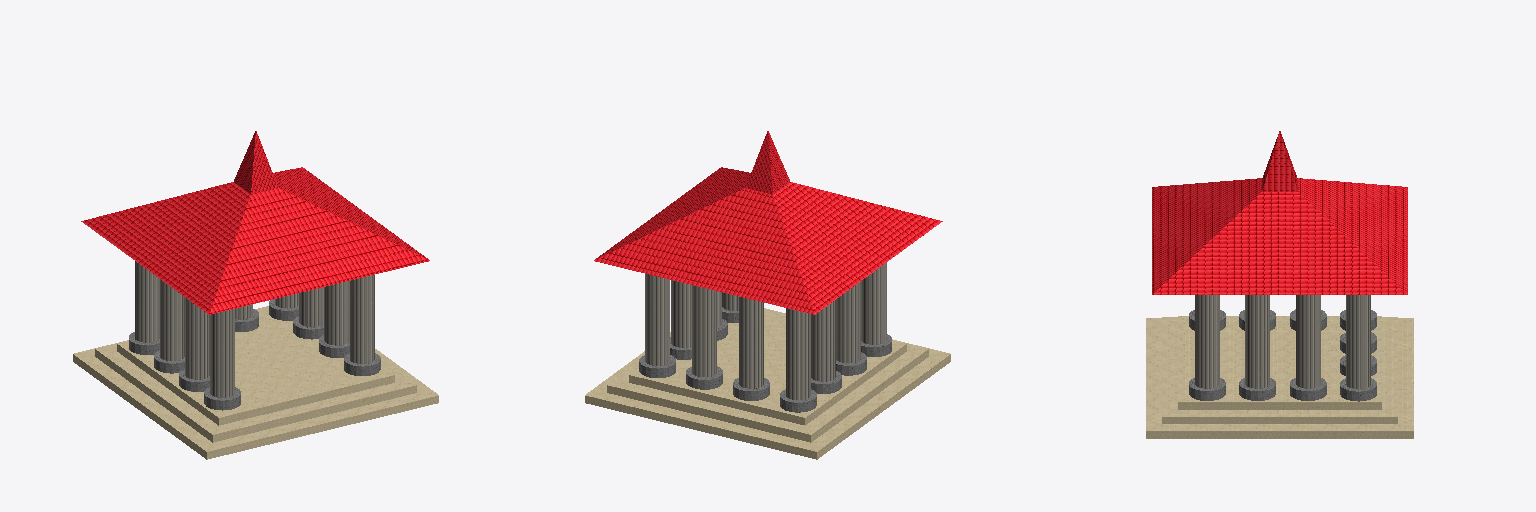
The picture shows the model from 3 angles: view 1: azimuth 30°, elevation 25°; view 2: azimuth 150°, elevation 25°; view 3: azimuth 270°, elevation 25°; orthographic projection.
Visible parts, largest first — view 1: Mesh.009_Roof, Mesh.012_Box003, Mesh.010_Box006, Mesh.011_Box005, Mesh.001_Cylinder019, Mesh.023_Cylinder009, Mesh.004_Cylinder011, Mesh.002_Cylinder012, Mesh.003_Cylinder013, Mesh.006_Cylinder017, Mesh_Cylinder018, Mesh.016_Cylinder020 (+1 smaller); view 2: Mesh.009_Roof, Mesh.012_Box003, Mesh.010_Box006, Mesh.011_Box005, Mesh.005_Cylinder016, Mesh.007_Cylinder014, Mesh.008_Cylinder015, Mesh.003_Cylinder013, Mesh.023_Cylinder009, Mesh.002_Cylinder012, Mesh.004_Cylinder011, Mesh_Cylinder018 (+4 smaller); view 3: Mesh.009_Roof, Mesh.012_Box003, Mesh.010_Box006, Mesh.011_Box005, Mesh.005_Cylinder016, Mesh.006_Cylinder017, Mesh.001_Cylinder019, Mesh_Cylinder018, Mesh.022_Cylinder028, Mesh.021_Cylinder029, Mesh.017_Cylinder027, Mesh.018_Cylinder026.
Boxes of the visible parts, x1=… form: Mesh.009_Roof: x1=81, y1=131, x2=429, y2=314; Mesh.012_Box003: x1=117, y1=306, x2=394, y2=425; Mesh.010_Box006: x1=73, y1=306, x2=438, y2=459; Mesh.011_Box005: x1=95, y1=340, x2=416, y2=442; Mesh.001_Cylinder019: x1=350, y1=275, x2=374, y2=363; Mesh.023_Cylinder009: x1=210, y1=309, x2=234, y2=397; Mesh.004_Cylinder011: x1=185, y1=298, x2=209, y2=379; Mesh.002_Cylinder012: x1=160, y1=279, x2=184, y2=360; Mesh.003_Cylinder013: x1=135, y1=261, x2=159, y2=342; Mesh.006_Cylinder017: x1=324, y1=281, x2=349, y2=345; Mesh_Cylinder018: x1=299, y1=287, x2=323, y2=326; Mesh.016_Cylinder020: x1=204, y1=387, x2=240, y2=410; Mesh.009_Roof: x1=594, y1=131, x2=942, y2=314; Mesh.012_Box003: x1=629, y1=308, x2=906, y2=425; Mesh.010_Box006: x1=585, y1=308, x2=950, y2=459; Mesh.011_Box005: x1=607, y1=309, x2=928, y2=442; Mesh.005_Cylinder016: x1=645, y1=274, x2=669, y2=365; Mesh.007_Cylinder014: x1=739, y1=297, x2=763, y2=388; Mesh.008_Cylinder015: x1=692, y1=285, x2=716, y2=376; Mesh.003_Cylinder013: x1=786, y1=308, x2=810, y2=399; Mesh.023_Cylinder009: x1=861, y1=263, x2=886, y2=344; Mesh.002_Cylinder012: x1=811, y1=300, x2=835, y2=381; Mesh.004_Cylinder011: x1=836, y1=282, x2=860, y2=362; Mesh_Cylinder018: x1=671, y1=280, x2=691, y2=347; Mesh.009_Roof: x1=1152, y1=131, x2=1407, y2=294; Mesh.012_Box003: x1=1178, y1=316, x2=1381, y2=409; Mesh.010_Box006: x1=1146, y1=318, x2=1413, y2=438; Mesh.011_Box005: x1=1162, y1=317, x2=1397, y2=423; Mesh.005_Cylinder016: x1=1346, y1=295, x2=1370, y2=388; Mesh.006_Cylinder017: x1=1245, y1=295, x2=1269, y2=388; Mesh.001_Cylinder019: x1=1195, y1=295, x2=1219, y2=388; Mesh_Cylinder018: x1=1296, y1=295, x2=1320, y2=388; Mesh.022_Cylinder028: x1=1290, y1=378, x2=1326, y2=400; Mesh.021_Cylinder029: x1=1189, y1=378, x2=1225, y2=400; Mesh.017_Cylinder027: x1=1239, y1=378, x2=1275, y2=400; Mesh.018_Cylinder026: x1=1340, y1=378, x2=1376, y2=401.
Size of the model in its own units: 124 by 128 by 124.
Materials: 4 (4 with a texture image).